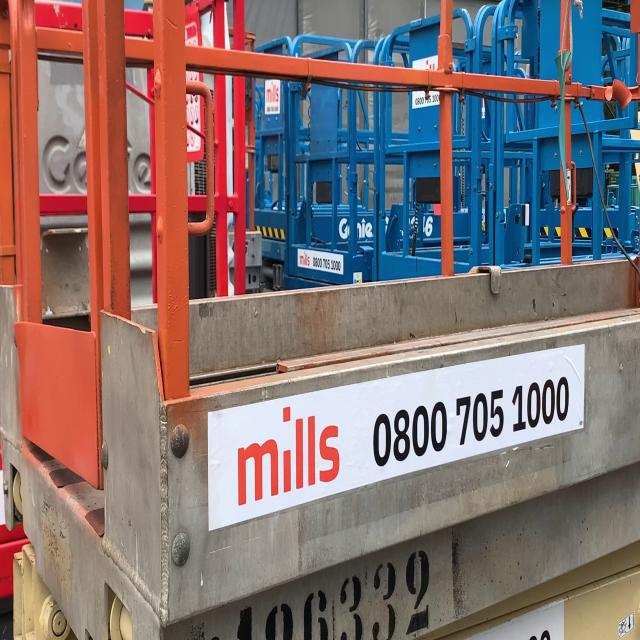Adesivo Longo: (205, 341, 587, 537)
